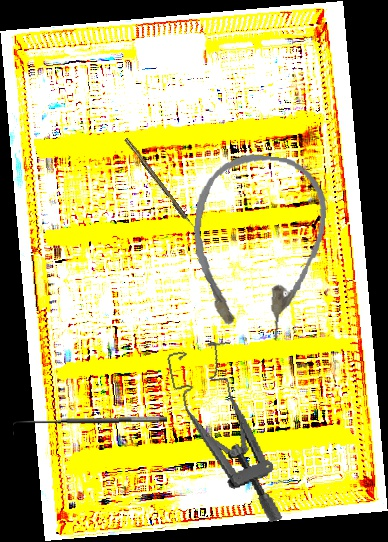Cannula: (181, 148, 333, 345)
Hook Surgical: (123, 137, 198, 232), (12, 413, 168, 437)
Speculum: (165, 335, 285, 536)
